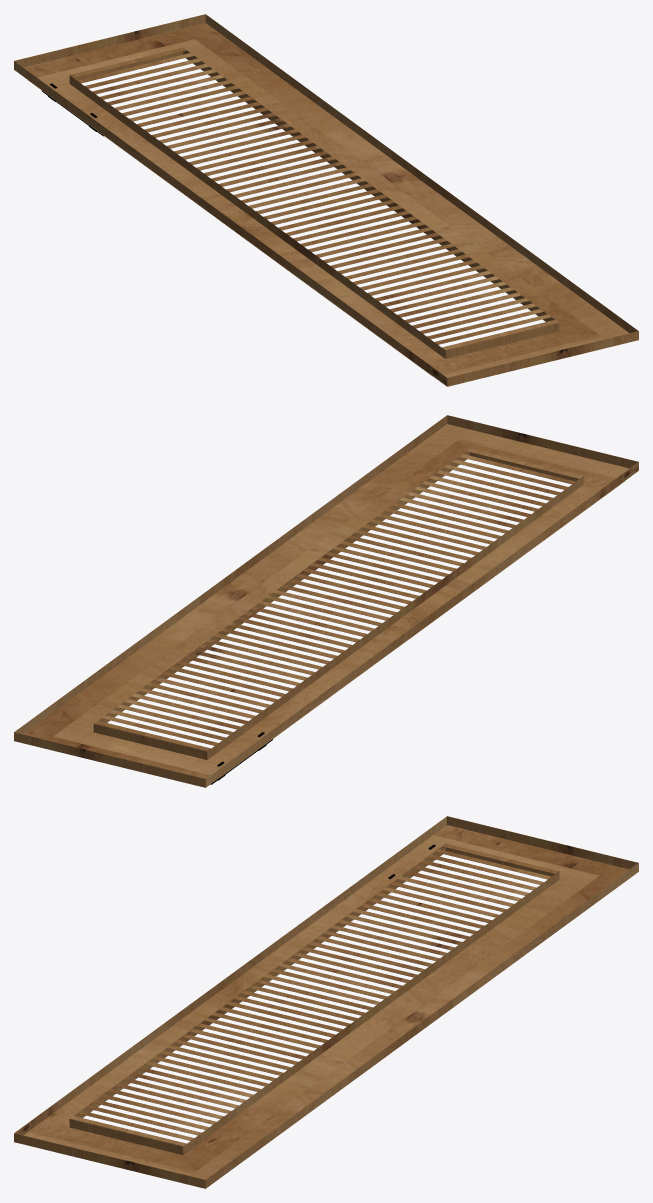
File: cabinfrontw2.gltf
3 views of the same model, one above another, from view 1: azimuth 30°, elevation 25°; view 2: azimuth 150°, elevation 25°; view 3: azimuth 330°, elevation 25° (orthographic).
Parts seen in each view (by area): view 1: Cube.002; view 2: Cube.002; view 3: Cube.002.
Boxes of the visible parts, left/top/right/bottom form: Cube.002: left=14, top=14, right=638, bottom=386; Cube.002: left=14, top=415, right=638, bottom=787; Cube.002: left=14, top=816, right=638, bottom=1188.
Bounding box in the file's own units: 0.865 × 0.0963 × 3.38.
1 material, 1 textured.
